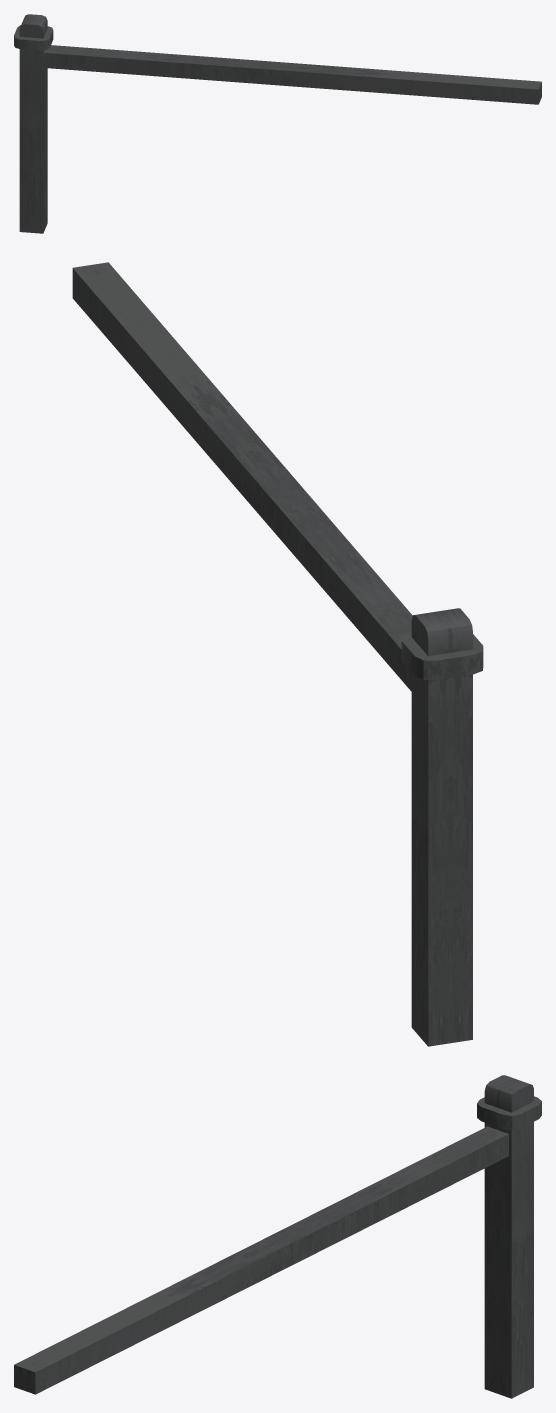
The picture shows the model from 3 angles, top to bottom: view 1: azimuth 30°, elevation 25°; view 2: azimuth 150°, elevation 25°; view 3: azimuth 270°, elevation 25°; orthographic projection. The views are drawn at different scales.
Parts seen in each view (by area): view 1: Cube044_metal3_0; view 2: Cube044_metal3_0; view 3: Cube044_metal3_0.
Boxes of the visible parts, bbox=[...] form: Cube044_metal3_0: bbox=[14, 14, 541, 233]; Cube044_metal3_0: bbox=[72, 262, 483, 1046]; Cube044_metal3_0: bbox=[14, 1075, 541, 1398].
Size of the model in its own units: 1.77 by 0.96 by 1.51.
1 material, 1 textured.
